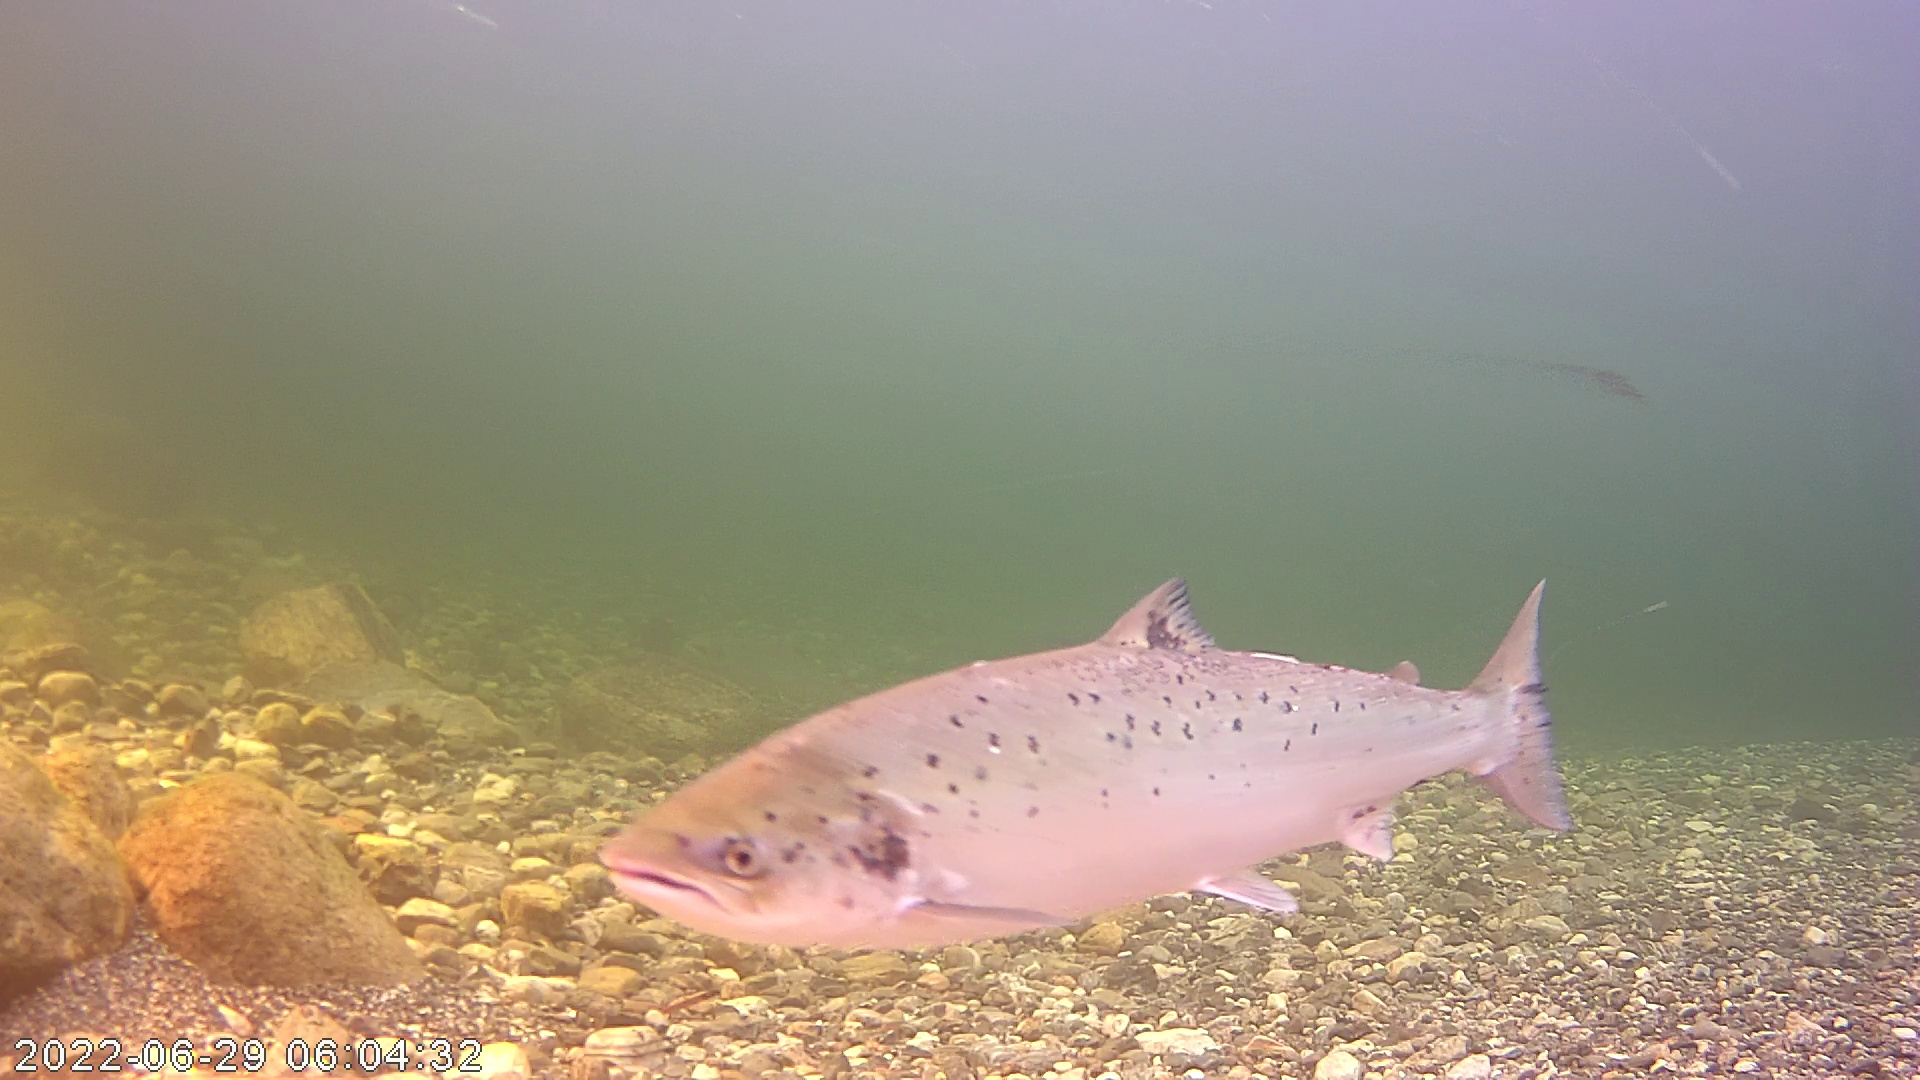salmon: (618, 513, 1578, 945)
